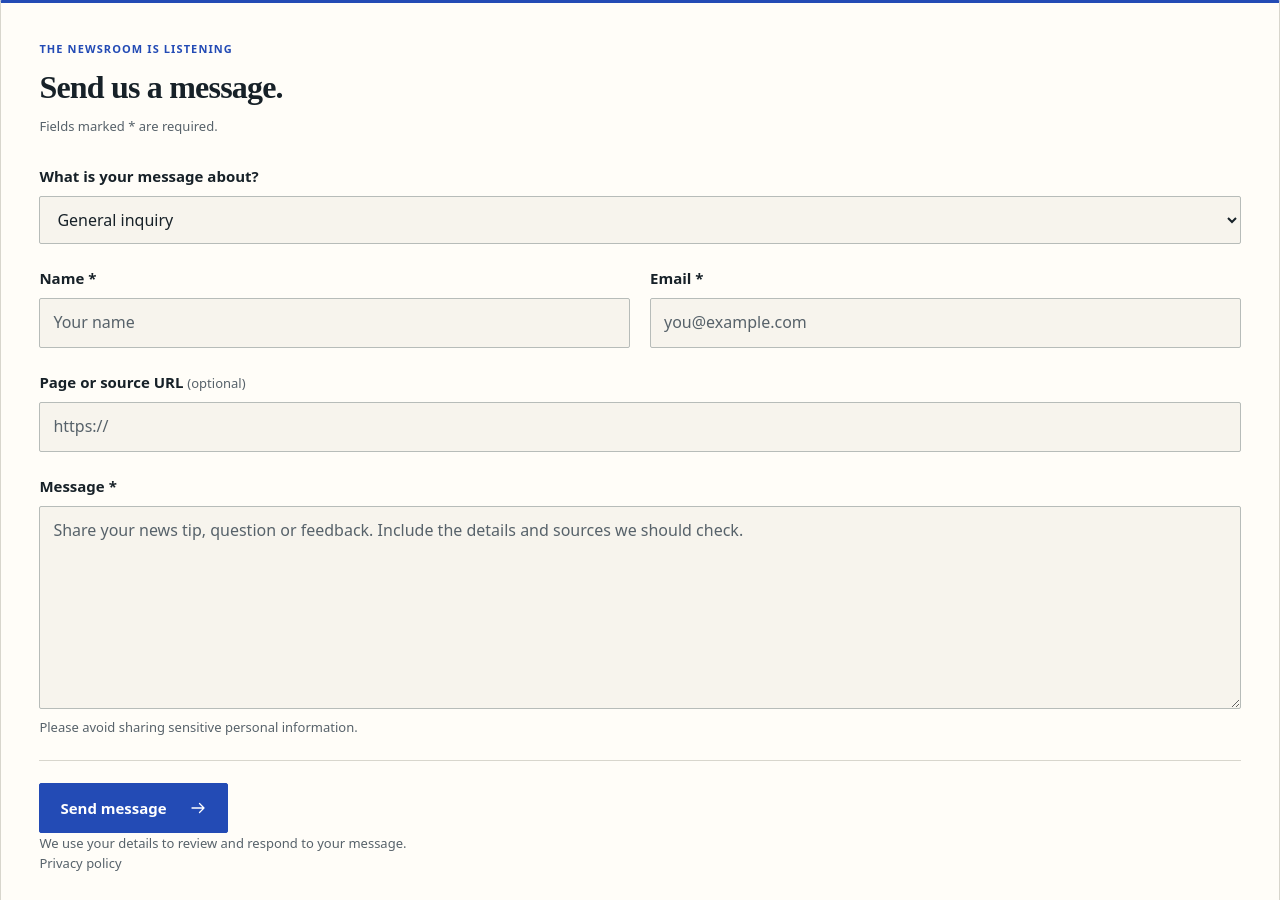
contact reader journeys › keeps details available after a rejected submission
Type "Local Reader" into the field labelled "Name *" at (335, 323), box [39,298,630,348]
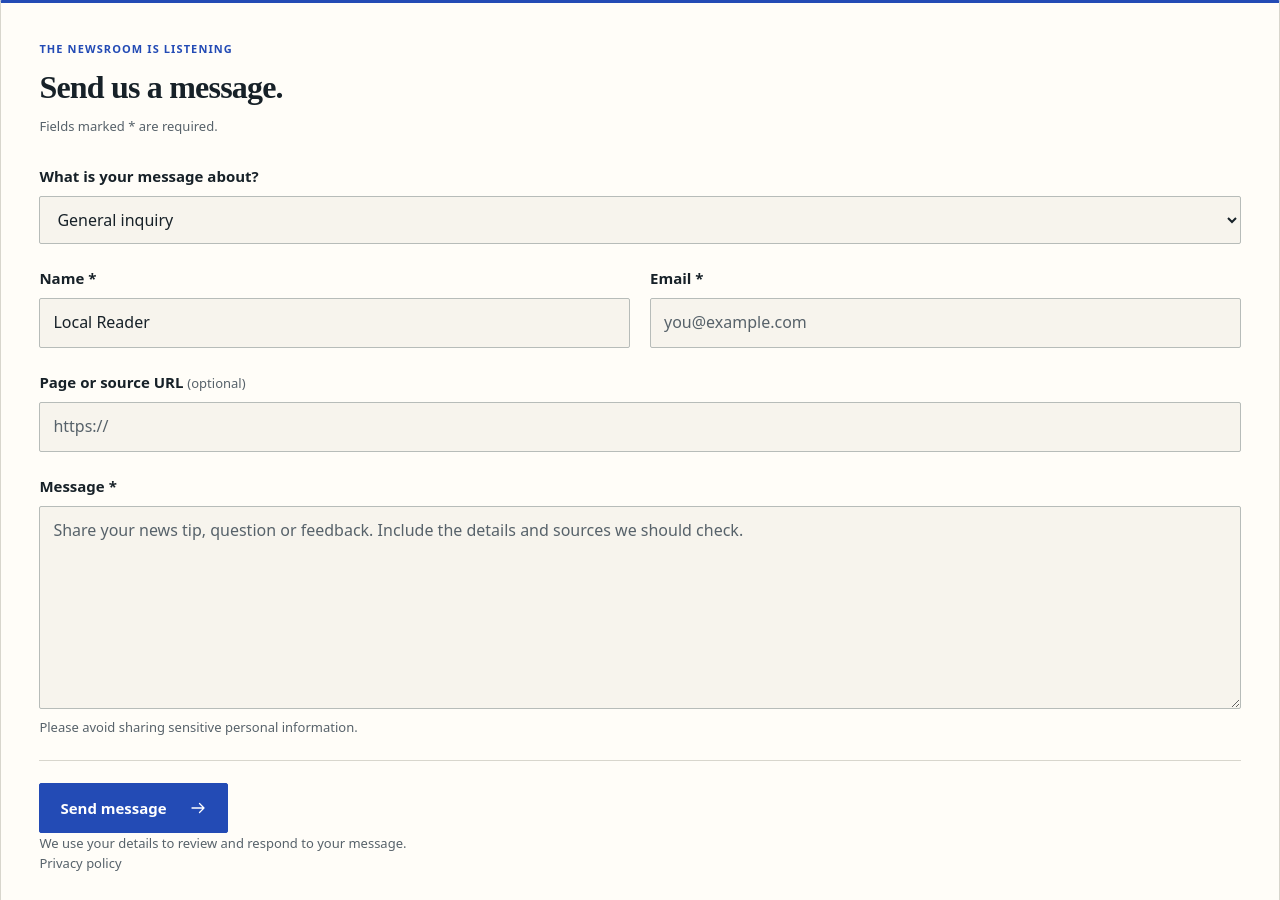
Type " reader@example.com " into the field labelled "Email *" at (945, 323), box [650,298,1241,348]
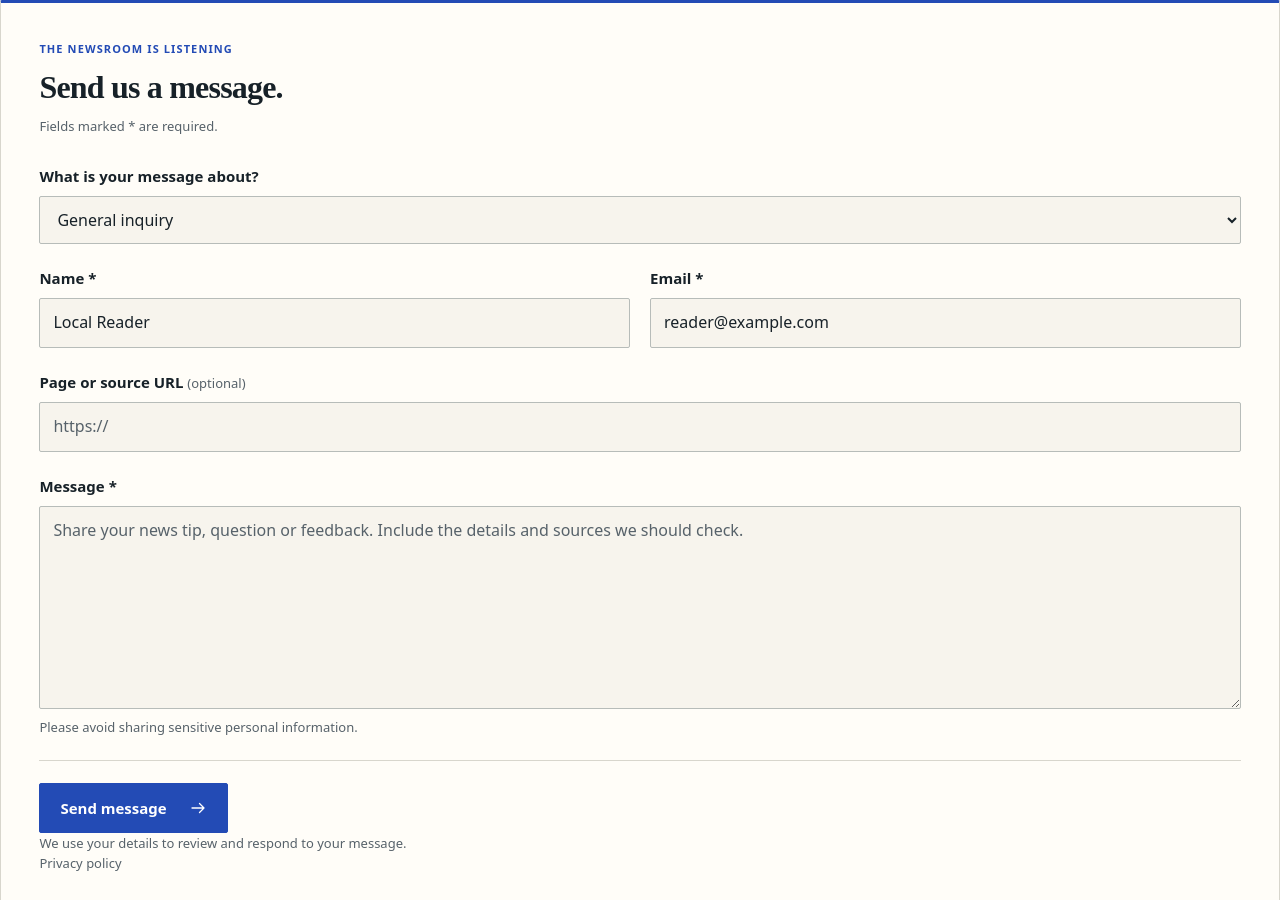
Replace the text in the text box labelled "Message *" with "Please review this public source and the date listed." at (640, 607), box [39,506,1241,709]
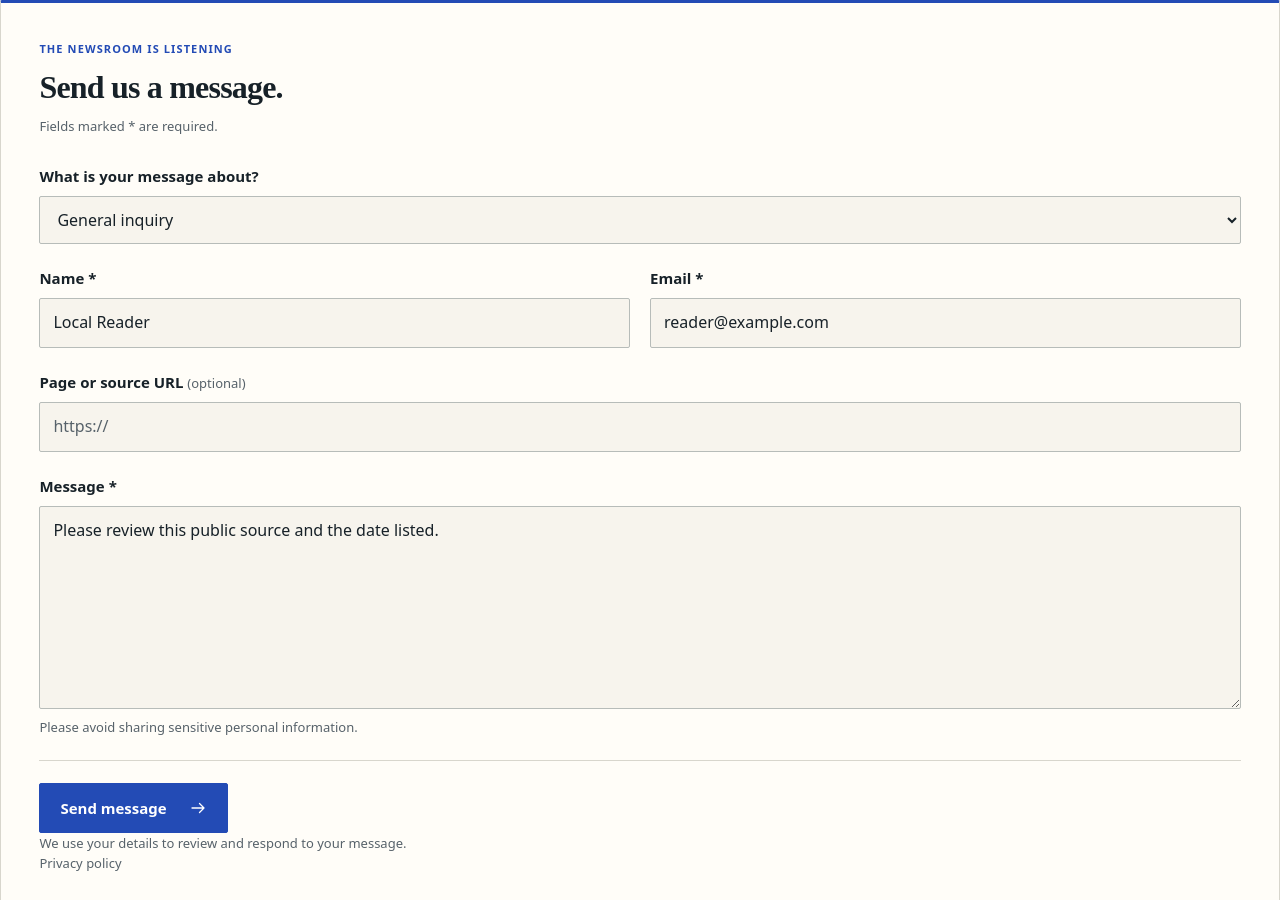
Submit the form named "Send message"
(page scrolled)
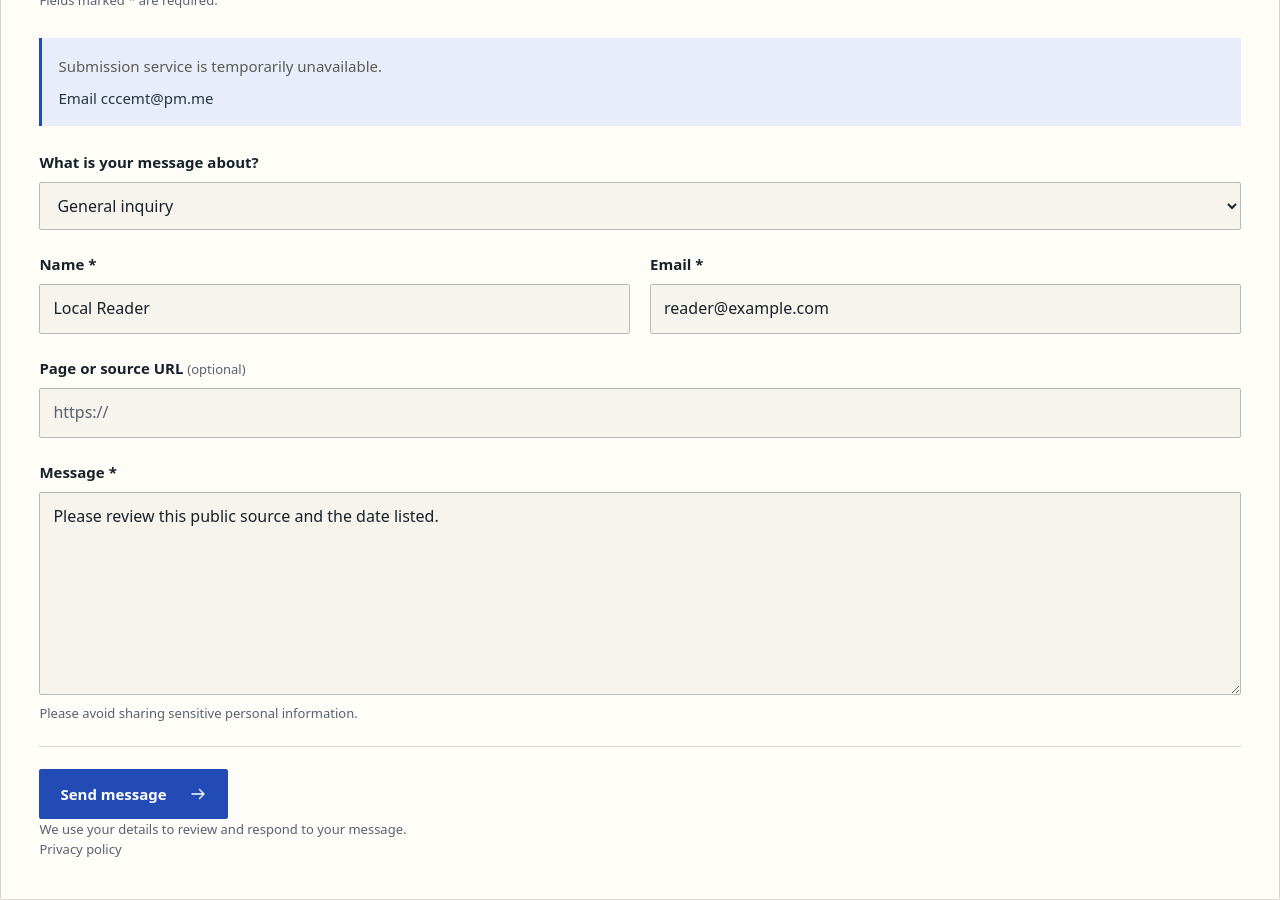
Check: the button "Send message" is enabled, box [39,768,228,818]
Check: the text "Submission service is temporarily unavailable." is shown, box [58,56,382,76]
